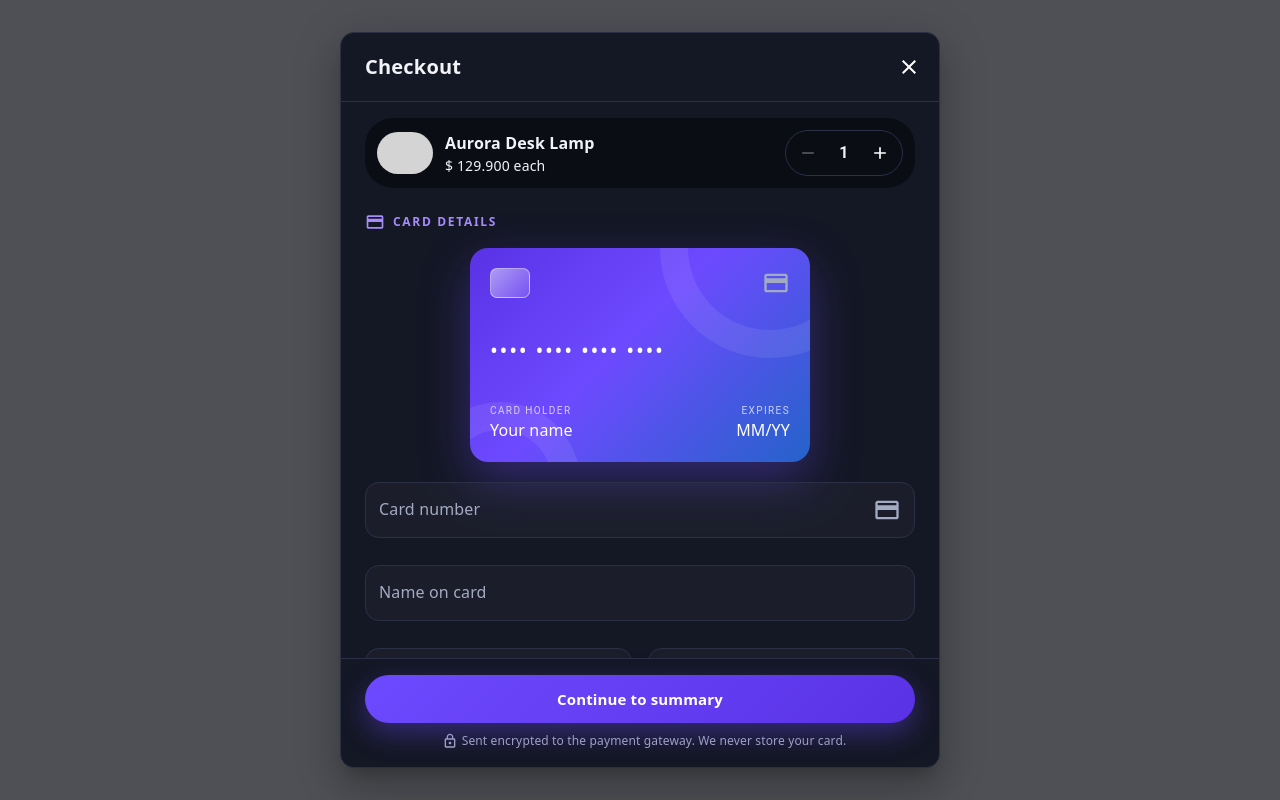
Scenario: CheckoutDialog › AC-2: tells the user when the brand is not accepted
Type "3782" into the field labelled "Card number" at (615, 510), box [365,482,865,538]
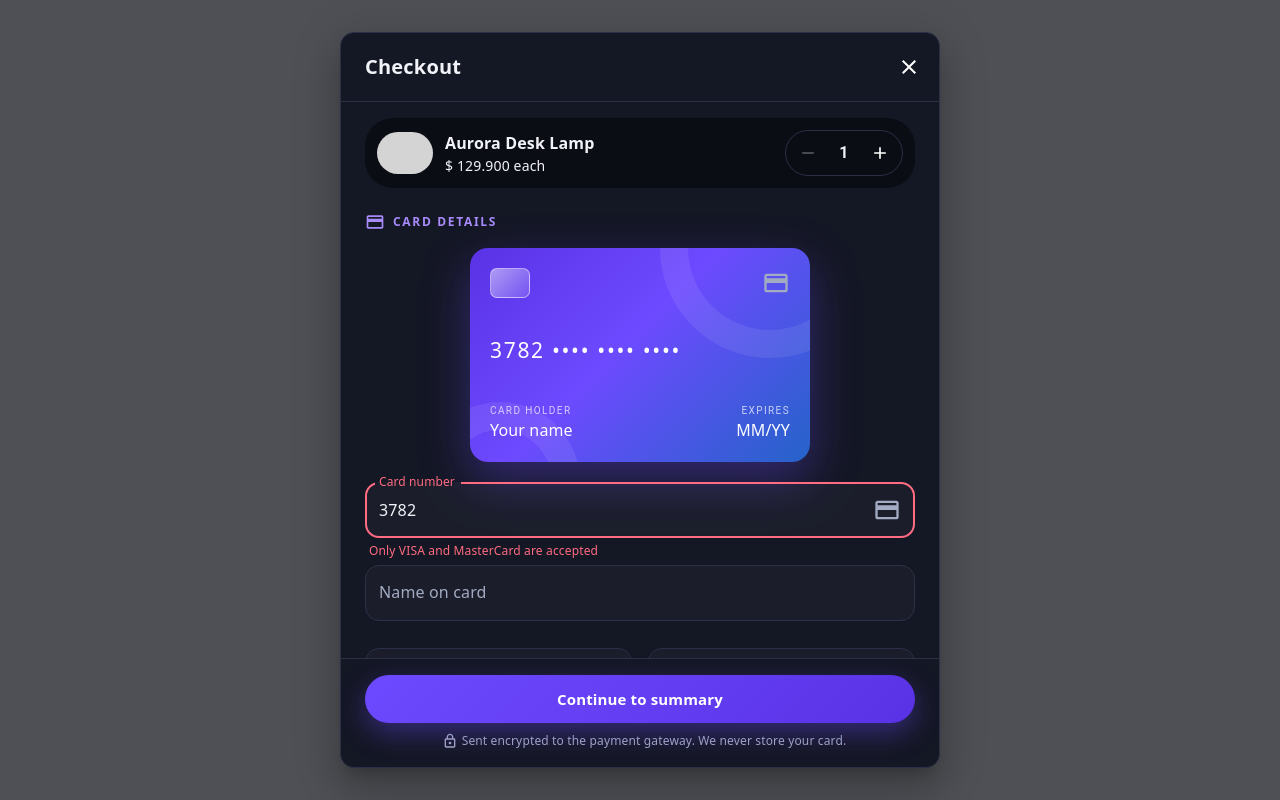
Expected: the 2nd picture named "Card" is shown, [873,496,901,524]
Expected: the text "Only VISA and MasterCard are accepted" is shown, [369,542,598,559]
